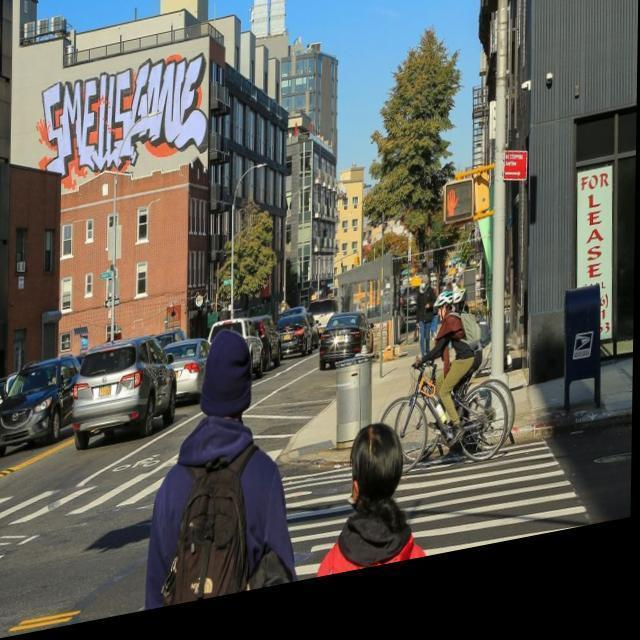nonspitting: (34, 52, 207, 190)
